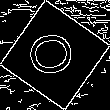O_E: (26, 29, 84, 81)
